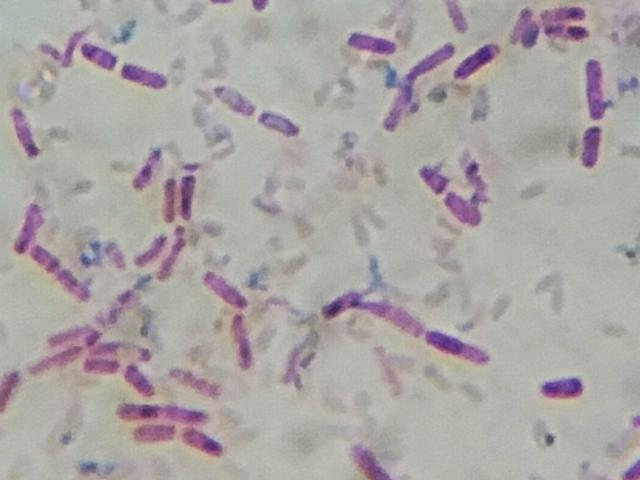E. coli: (325, 286, 422, 328), (129, 423, 216, 454), (428, 325, 492, 367), (119, 399, 210, 427), (463, 41, 520, 85), (88, 359, 158, 394), (339, 20, 398, 61), (35, 249, 86, 296), (541, 3, 597, 45), (206, 267, 256, 309), (6, 193, 42, 250), (41, 343, 151, 361), (8, 96, 41, 155), (408, 39, 462, 73), (122, 59, 169, 97), (579, 122, 613, 174), (582, 55, 612, 112), (386, 79, 416, 134), (412, 155, 450, 198), (349, 439, 389, 479), (83, 37, 120, 78), (231, 313, 257, 371), (438, 0, 476, 39), (448, 190, 480, 231), (512, 7, 541, 51), (133, 140, 159, 189), (262, 110, 307, 138), (1, 362, 25, 407), (51, 319, 96, 341), (181, 175, 200, 227), (213, 85, 248, 112), (162, 173, 182, 216), (139, 232, 164, 266)
